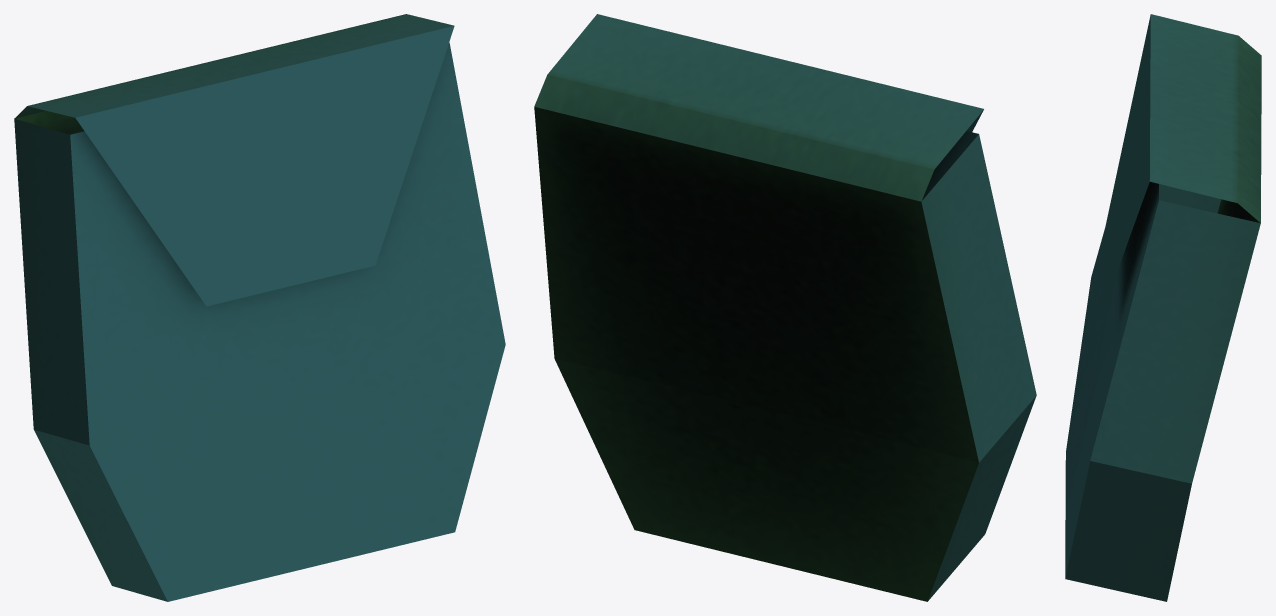
File: TallChPoket.FBX
3 renders of one model, left to right at view 1: azimuth 30°, elevation 25°; view 2: azimuth 150°, elevation 25°; view 3: azimuth 270°, elevation 25°, orthographic. The views are drawn at different scales.
Visible parts, largest first — view 1: TallChPoket; view 2: TallChPoket; view 3: TallChPoket.
Boxes of the visible parts, x1,y1,x2,y2 form: TallChPoket: [14, 14, 505, 601]; TallChPoket: [534, 14, 1036, 601]; TallChPoket: [1065, 14, 1261, 601].
Size of the model in its own units: 103 by 46.66 by 115.
Materials: 1 (1 with a texture image).
